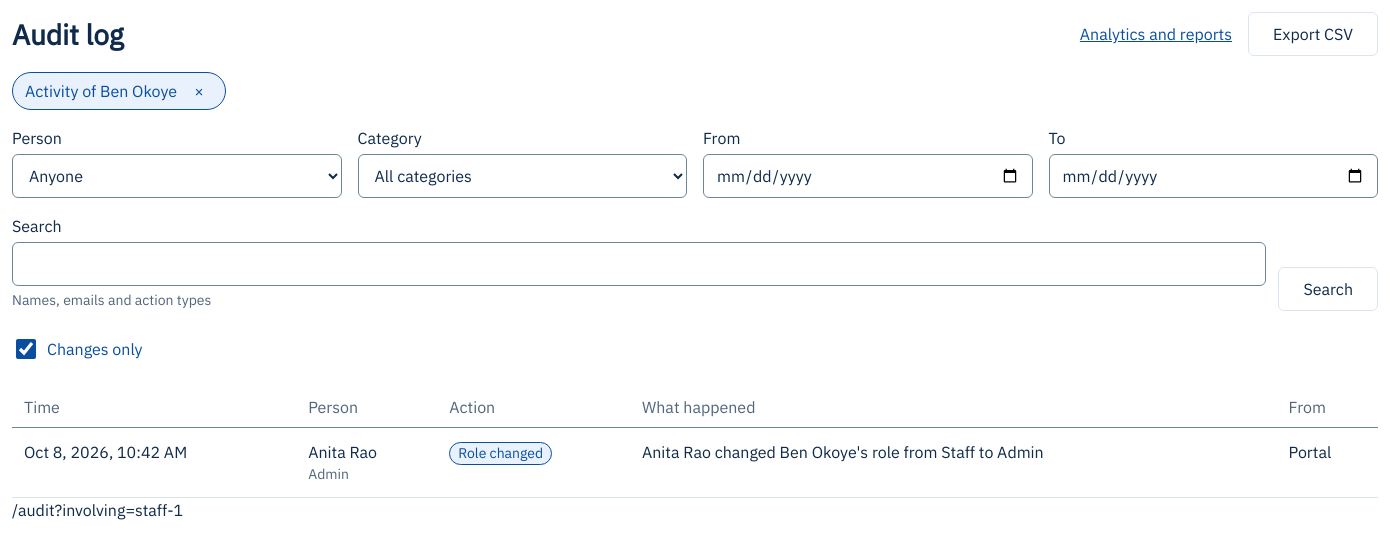
Test: AuditPage › filters › shows a removable chip for activity of one person when arriving from the Staff page
Expected: the text "Activity of Ben Okoye" is shown, [25,79,177,103]
Click the button named "Remove filter: Activity of Ben Okoye". click: (199, 91)
box: [185,77,213,105]
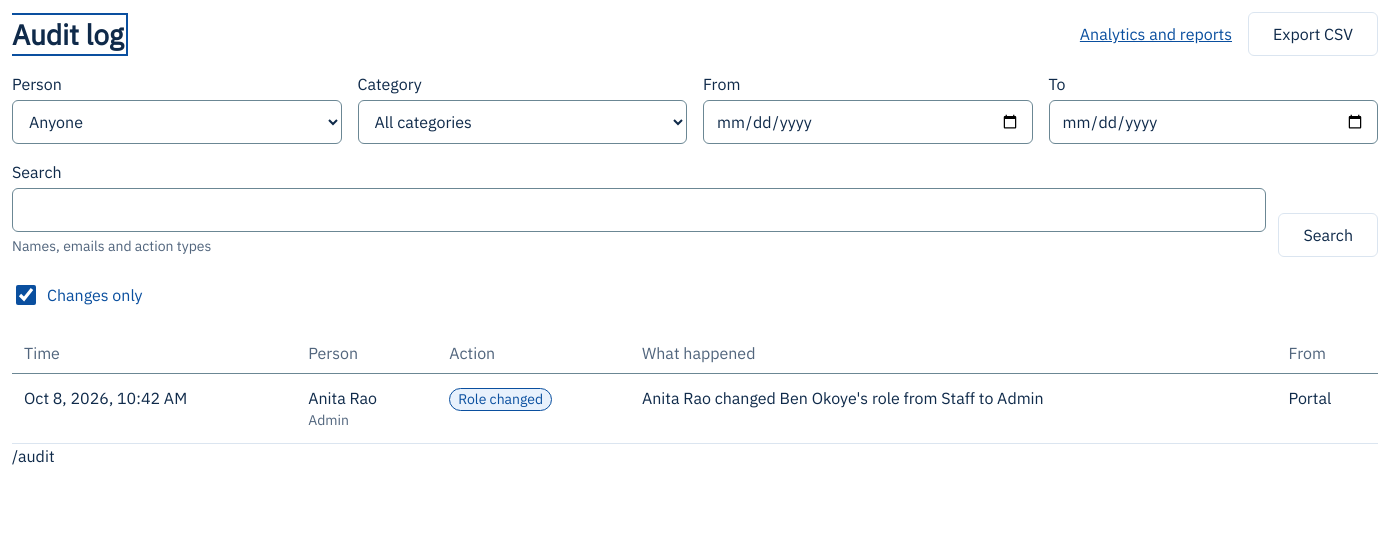
Expected: the text with test id "location" reads "/audit", [12,446,54,466]
